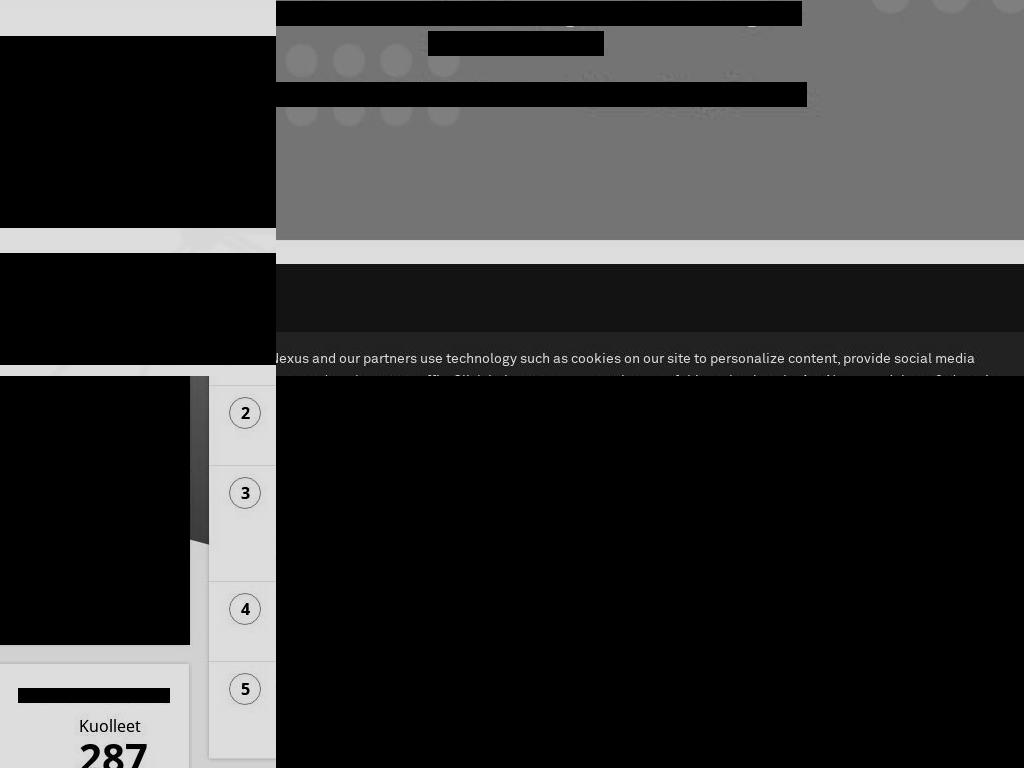button: (0, 376, 190, 645), (530, 361, 662, 376), (691, 361, 823, 376), (852, 361, 983, 376), (402, 361, 501, 376)
heading: (0, 36, 276, 228), (0, 492, 180, 625), (691, 332, 823, 351), (79, 716, 150, 737), (402, 334, 484, 348), (530, 334, 582, 348), (852, 334, 903, 348)
image: (276, 376, 1024, 768)
link: (727, 82, 807, 107), (583, 82, 650, 107), (663, 82, 714, 107)
text: (0, 253, 276, 365), (276, 1, 802, 26), (276, 82, 583, 107), (428, 31, 604, 56), (79, 730, 149, 768), (18, 688, 170, 703), (650, 82, 663, 107), (714, 82, 727, 107)
